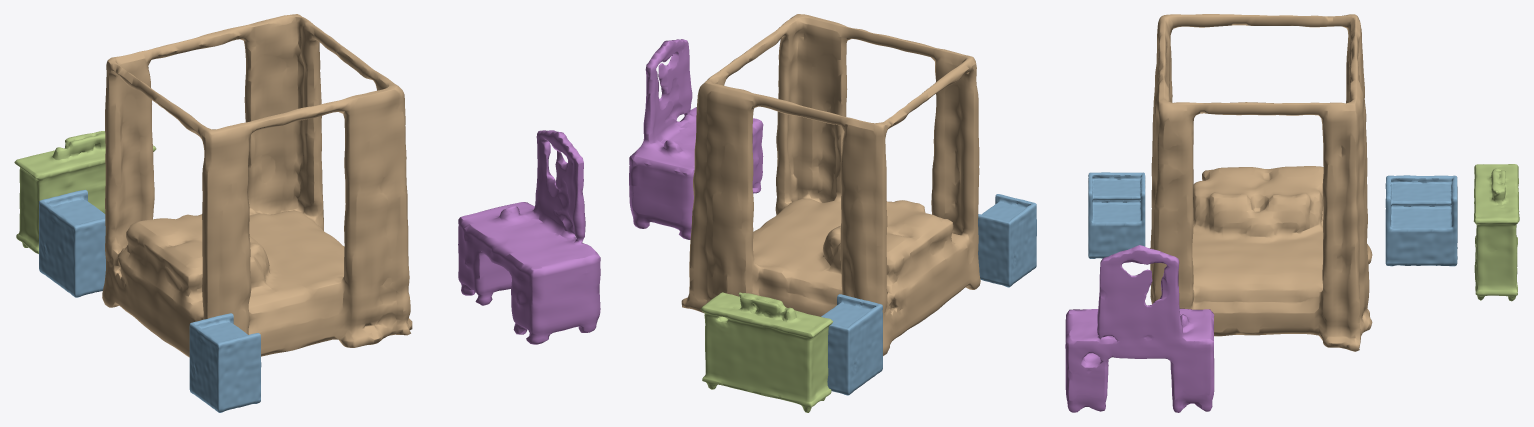
The model's file is SecondBedroom-11167_echoscene.glb.
3 renders of one model, left to right at view 1: azimuth 30°, elevation 25°; view 2: azimuth 150°, elevation 25°; view 3: azimuth 270°, elevation 25°, orthographic. The views are drawn at different scales.
Parts seen in each view (by area): view 1: world; view 2: world; view 3: world.
Boxes of the visible parts, x1,y1,x2,y2 form: world: [14, 14, 600, 412]; world: [629, 14, 1036, 412]; world: [1065, 14, 1519, 412].
Bounding box in the file's own units: 3.54 × 2.25 × 3.85.
